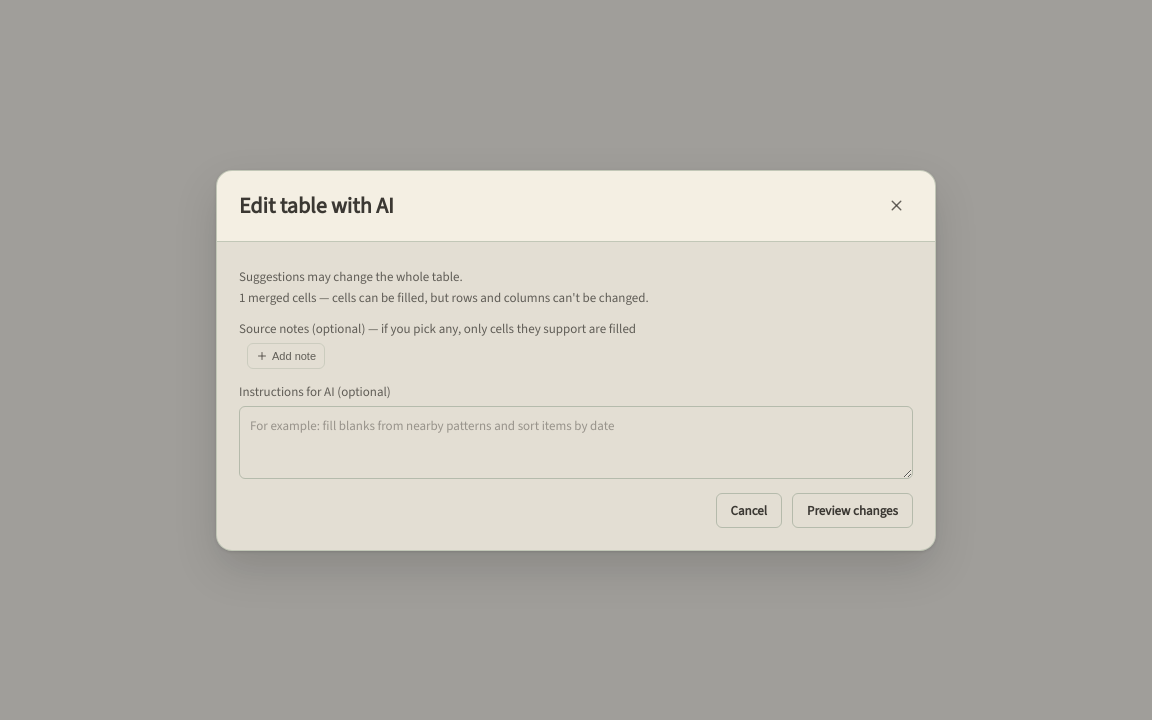
Test: TableAiModal — merged form tables › shows the label cell's name in the preview row: '성명 · … (빈칸) → 김하늘'
What coordinates should you click on to do the following:
click the button "Preview changes"
I would click on:
 (853, 510)
Its box is [792,492,913,528].
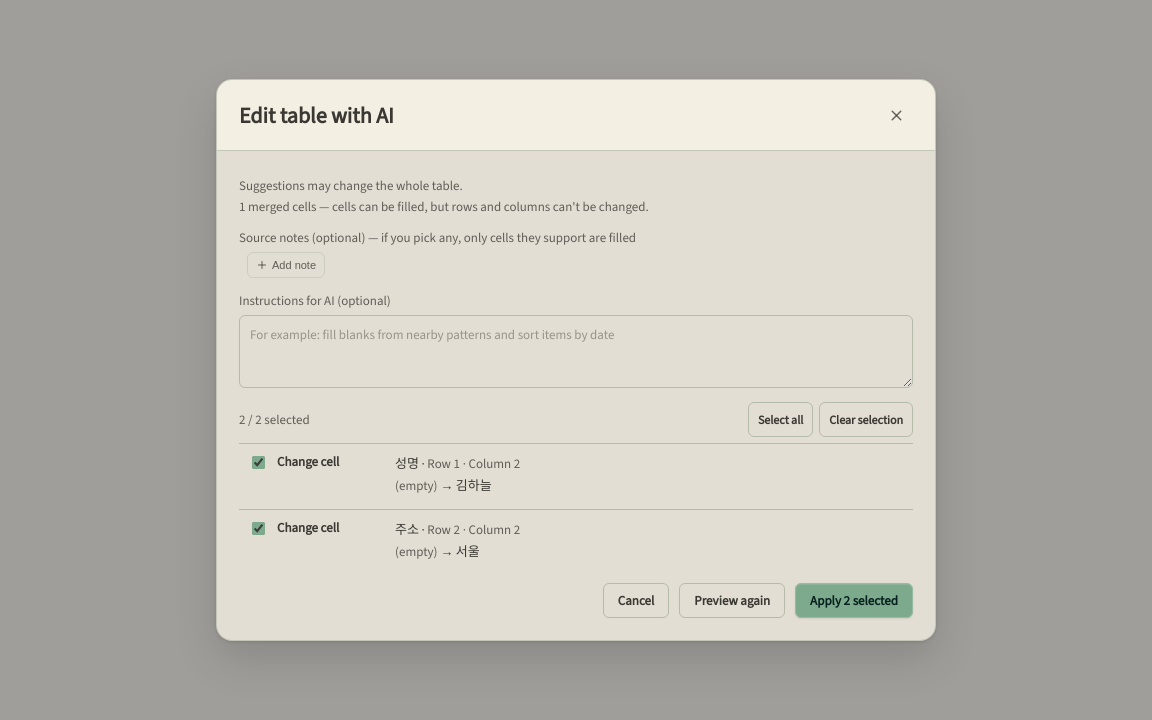
Expected: the text "성명 ·" is shown, [395,455,427,472]
Expected: the text "주소 ·" is shown, [395,521,427,538]
Expected: the text "김하늘" is shown, [456,477,492,494]
